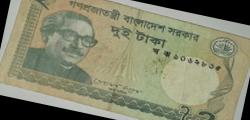2 taka: (17, 1, 234, 119)
